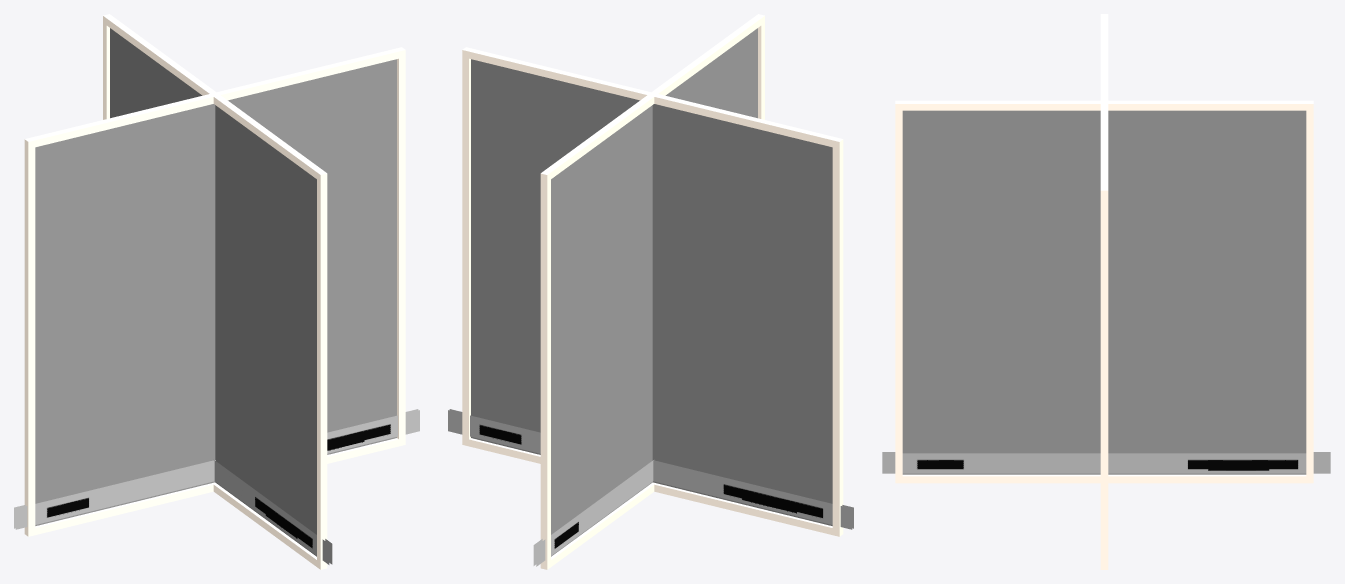
Rendered from DG-Trope.fbx.
The picture shows the model from 3 angles, left to right: view 1: azimuth 30°, elevation 25°; view 2: azimuth 150°, elevation 25°; view 3: azimuth 270°, elevation 25°; orthographic projection. The views are drawn at different scales.
Parts seen in each view (by area): view 1: Paint_back, Paint_front, Paint_front_1, Paint_back_1, DG2021_front, FrameL, FrameT, FrameL_1, FrameR, FrameT_1, FrameB, DG2021_back_1 (+2 smaller); view 2: Paint_back, Paint_front, Paint_back_1, Paint_front_1, DG2021_back, FrameL, FrameT, FrameR_1, FrameR, FrameT_1, FrameB, DG2021_back_1 (+2 smaller); view 3: Paint_front_1, Paint_back_1, DG2021_front_1, FrameT_1, FrameB_1, FrameR, FrameL_1, FrameR_1, FrameT.
Part boxes in pixels (left/top/right/bottom): Paint_back: left=35, top=60, right=396, bottom=525; Paint_front: left=35, top=59, right=396, bottom=525; Paint_front_1: left=110, top=28, right=316, bottom=556; Paint_back_1: left=110, top=30, right=316, bottom=556; DG2021_front: left=15, top=410, right=419, bottom=529; FrameL: left=24, top=146, right=35, bottom=529; FrameT: left=24, top=47, right=405, bottom=148; FrameL_1: left=317, top=179, right=327, bottom=562; FrameR: left=397, top=57, right=405, bottom=439; FrameT_1: left=103, top=14, right=327, bottom=181; FrameB: left=24, top=438, right=405, bottom=536; DG2021_back_1: left=214, top=460, right=329, bottom=564; Paint_back: left=471, top=59, right=832, bottom=525; Paint_front: left=471, top=59, right=832, bottom=525; Paint_back_1: left=551, top=29, right=757, bottom=556; Paint_front_1: left=551, top=28, right=757, bottom=556; DG2021_back: left=448, top=410, right=852, bottom=529; FrameL: left=832, top=146, right=843, bottom=529; FrameT: left=462, top=47, right=843, bottom=148; FrameR_1: left=540, top=179, right=550, bottom=562; FrameR: left=462, top=57, right=470, bottom=439; FrameT_1: left=540, top=14, right=764, bottom=181; FrameB: left=462, top=438, right=843, bottom=536; DG2021_back_1: left=536, top=460, right=653, bottom=566; Paint_front_1: left=902, top=110, right=1306, bottom=474; Paint_back_1: left=902, top=110, right=1306, bottom=474; DG2021_front_1: left=882, top=453, right=1330, bottom=473; FrameT_1: left=895, top=100, right=1313, bottom=110; FrameB_1: left=895, top=474, right=1313, bottom=483; FrameR: left=1100, top=197, right=1108, bottom=563; FrameL_1: left=895, top=110, right=902, bottom=476; FrameR_1: left=1306, top=110, right=1313, bottom=476; FrameT: left=1100, top=14, right=1108, bottom=197.
Size of the model in its own units: 300 by 280 by 300.
